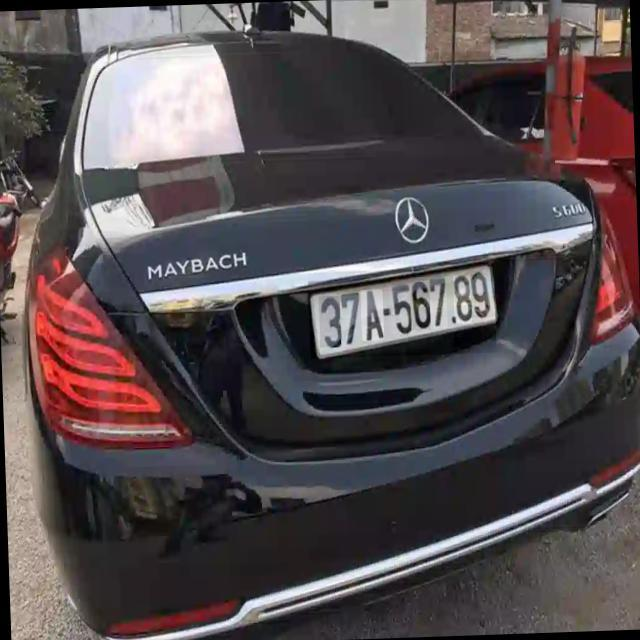car: (24, 22, 626, 640)
plate: (307, 264, 499, 359)
